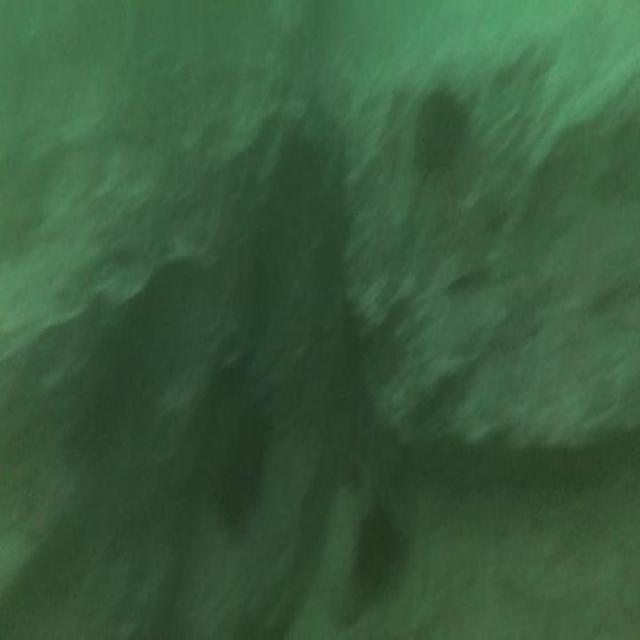echinus: (212, 458, 258, 545), (414, 88, 461, 166), (358, 512, 398, 585)
